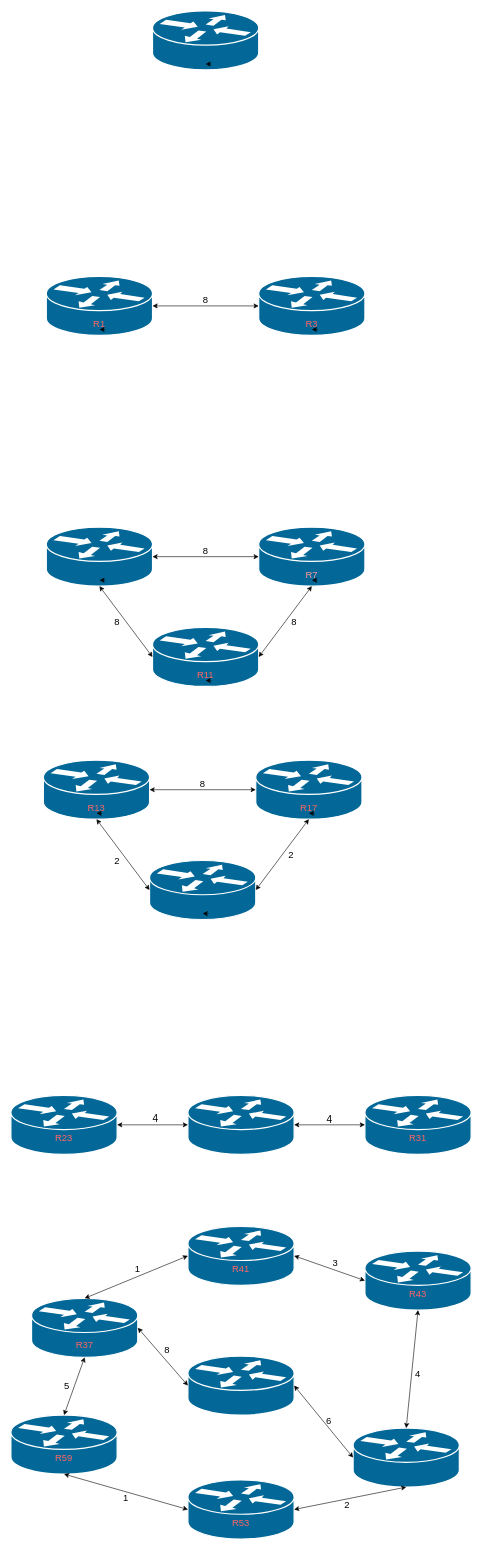
Image size: 481x1549. Some labels were removed from this diagram. Here are the shapes that lost their labels. From the top down, the box of each, then its label:
(152, 10, 259, 70): R2
(45, 526, 153, 586): R5
(149, 860, 256, 920): R19
(187, 1094, 294, 1155): R29
(187, 1355, 294, 1415): R63
(352, 1427, 460, 1487): R47
